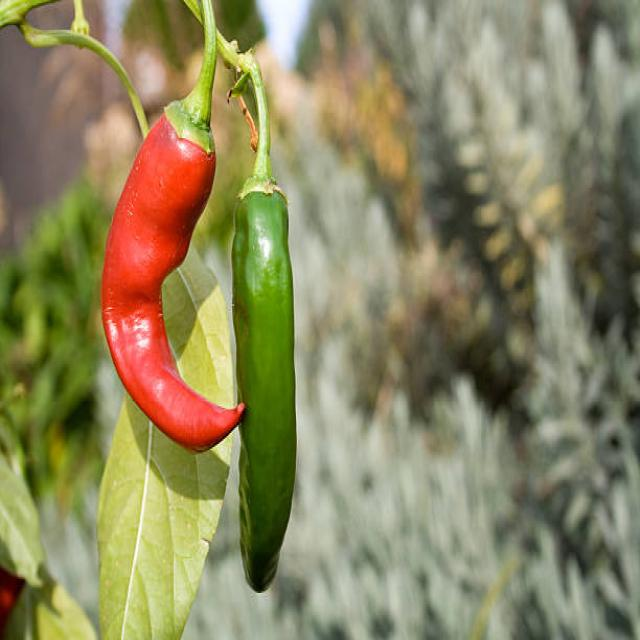Ripe: (101, 113, 243, 450)
Unripe: (232, 182, 295, 591)
